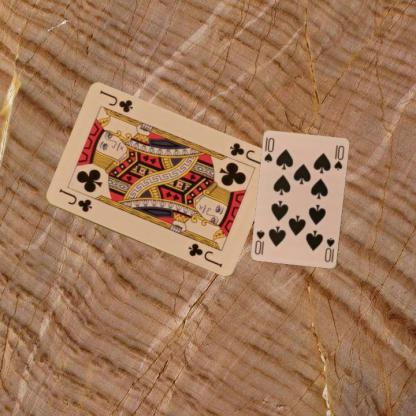10s: (322, 235, 336, 264), (262, 135, 276, 164)
Jc: (56, 186, 93, 214), (227, 140, 265, 167)
